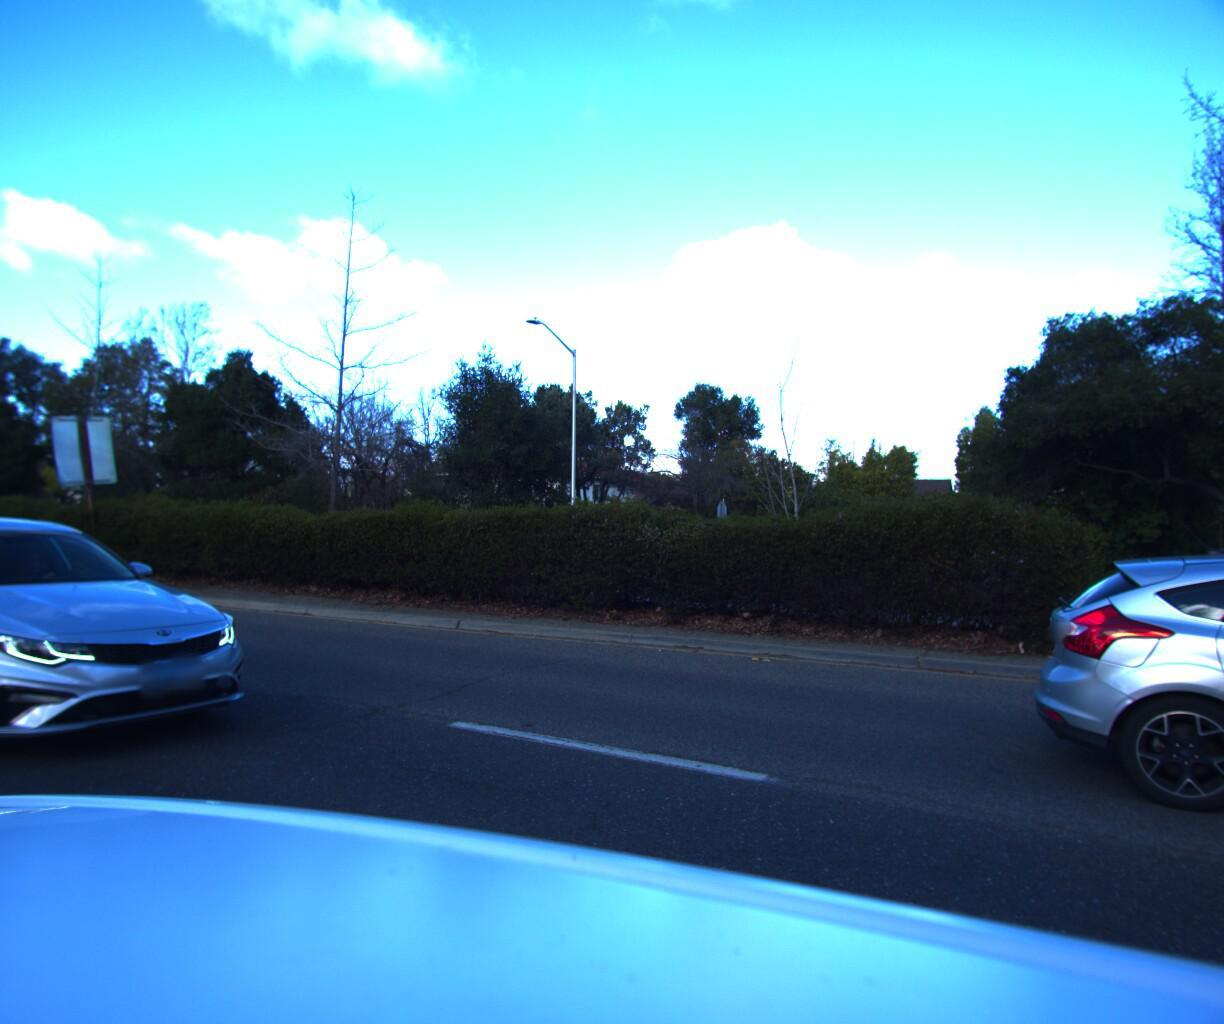car: (1002, 531, 1224, 972), (0, 502, 285, 795)
